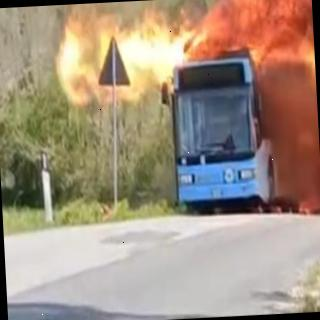smoke: (284, 108, 320, 196)
